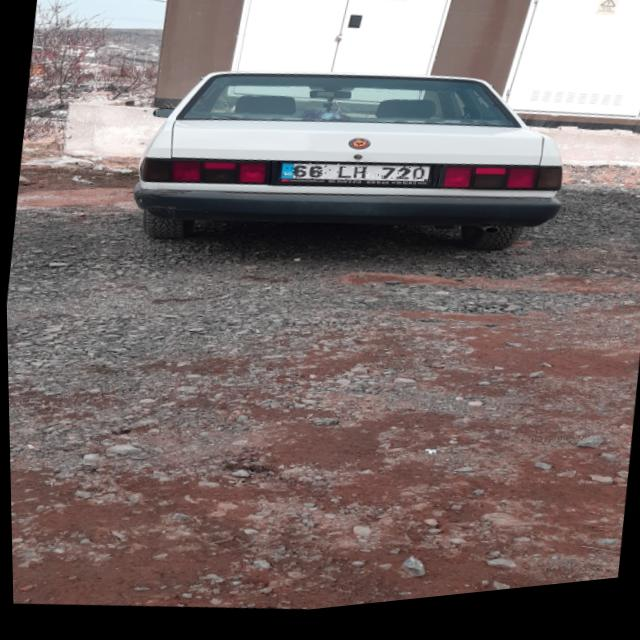plate: (279, 156, 430, 203)
